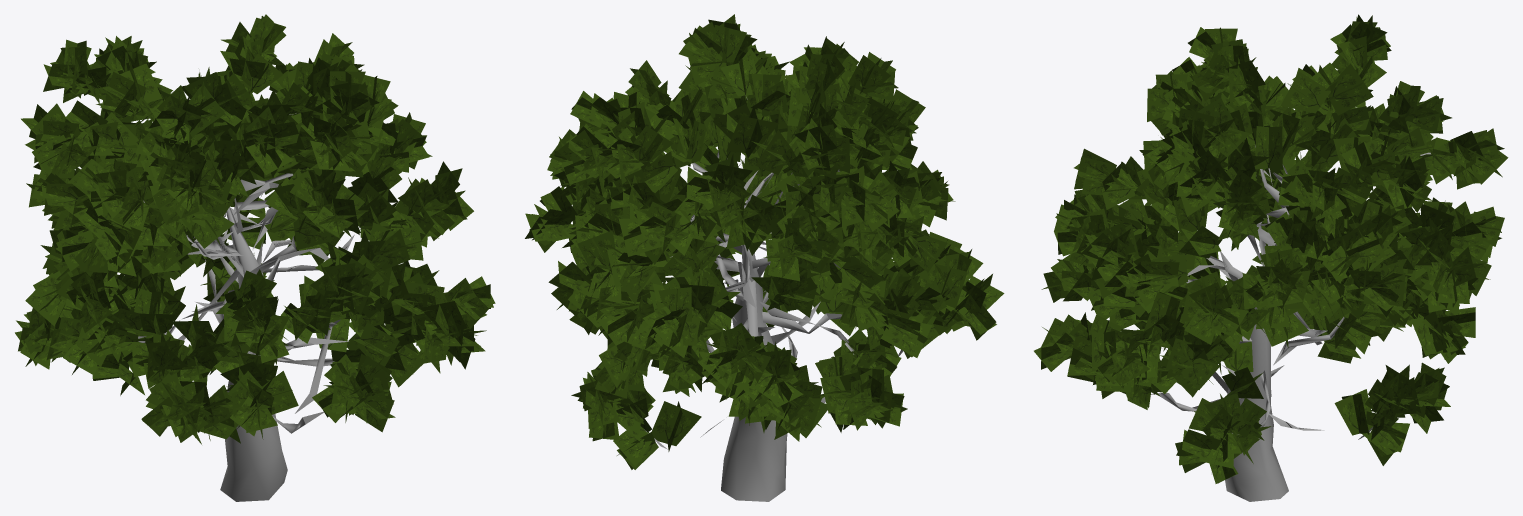
Rendered from oak7 lod1.FBX.
3 renders of one model, left to right at view 1: azimuth 30°, elevation 25°; view 2: azimuth 150°, elevation 25°; view 3: azimuth 270°, elevation 25°, orthographic. The views are drawn at different scales.
Visible parts, largest first — view 1: oak7_LOD1; view 2: oak7_LOD1; view 3: oak7_LOD1.
Boxes of the visible parts, box(x1,y1,x2,y2) form: oak7_LOD1: box(15, 14, 495, 501); oak7_LOD1: box(525, 14, 1004, 501); oak7_LOD1: box(1034, 14, 1508, 501).
Bounding box in the file's own units: 191042 × 201442 × 203640.
